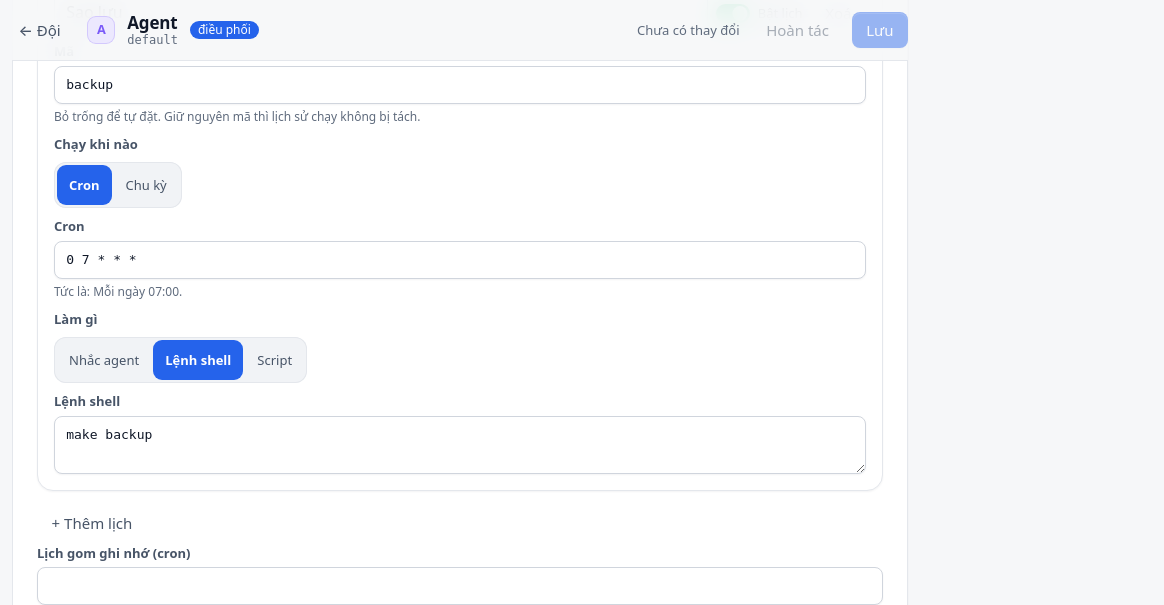
Test case: switching what a schedule does › leaves nothing to save once a command is switched round and back
(page scrolled)
Click the button "Nhắc agent": (104, 360) [57, 340, 151, 380]
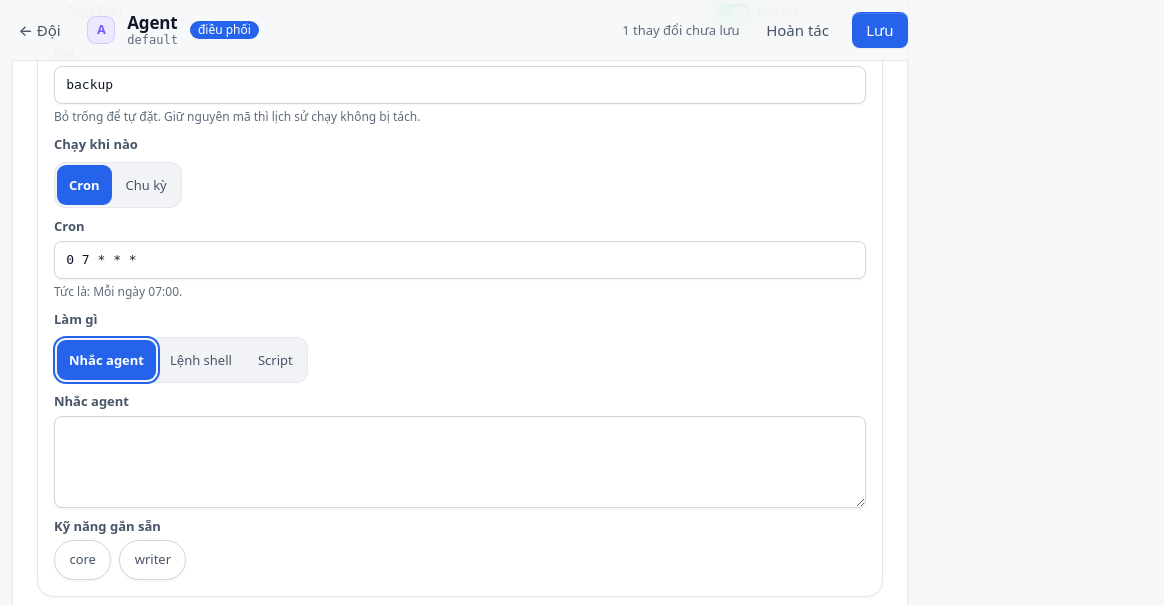
Click the button "Lệnh shell": (201, 360) [158, 340, 244, 380]
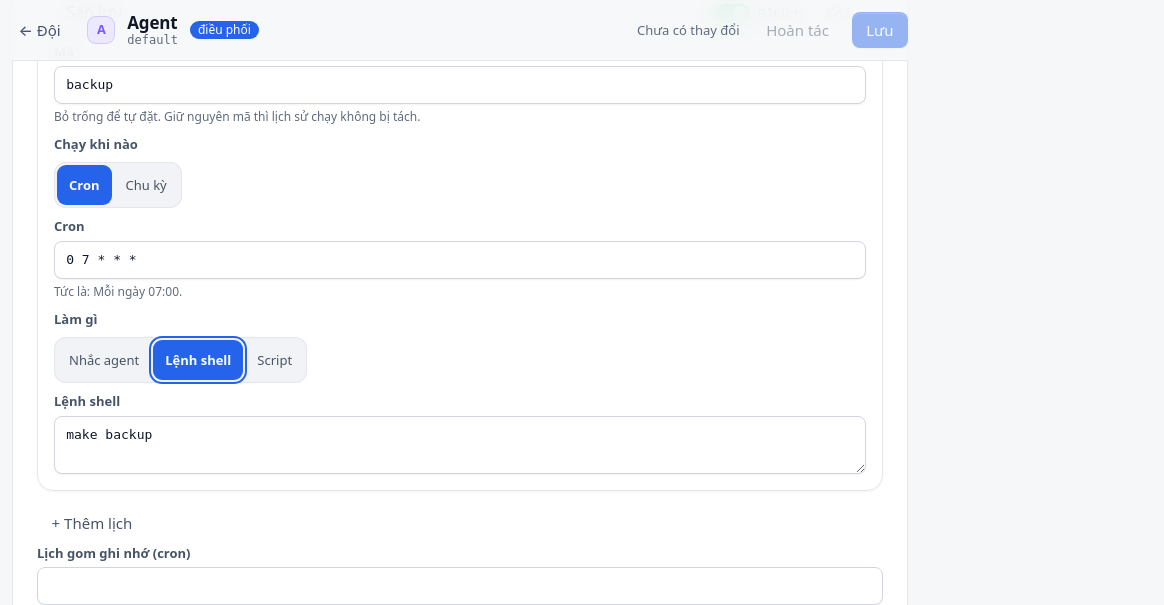
Click the button "Script": (275, 360) [245, 340, 304, 380]
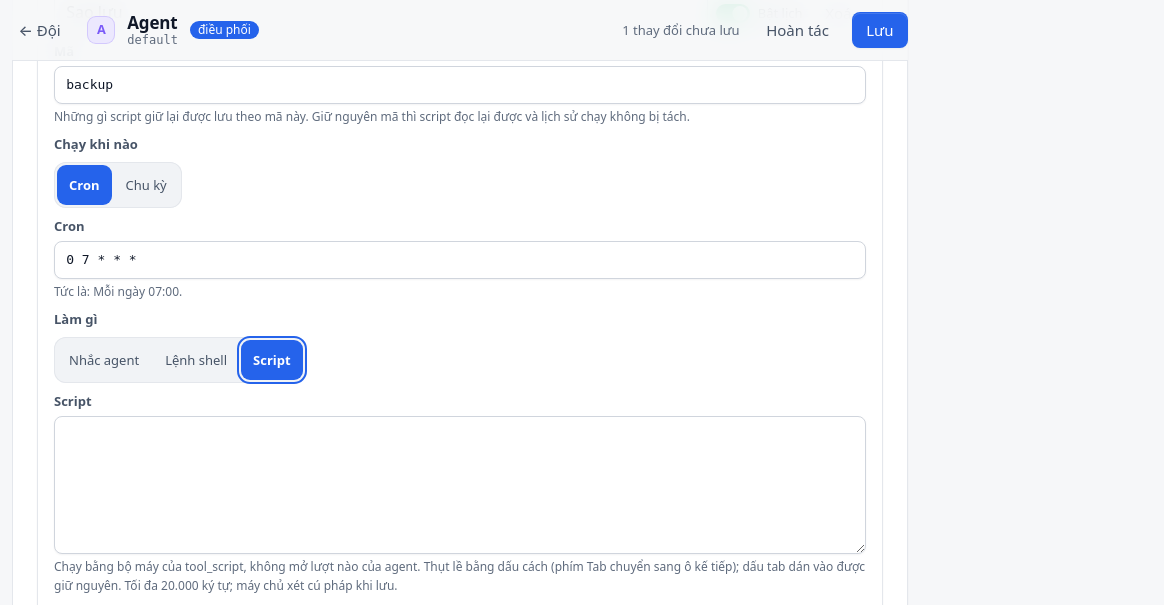
Click the button "Nhắc agent": (104, 360) [57, 340, 151, 380]
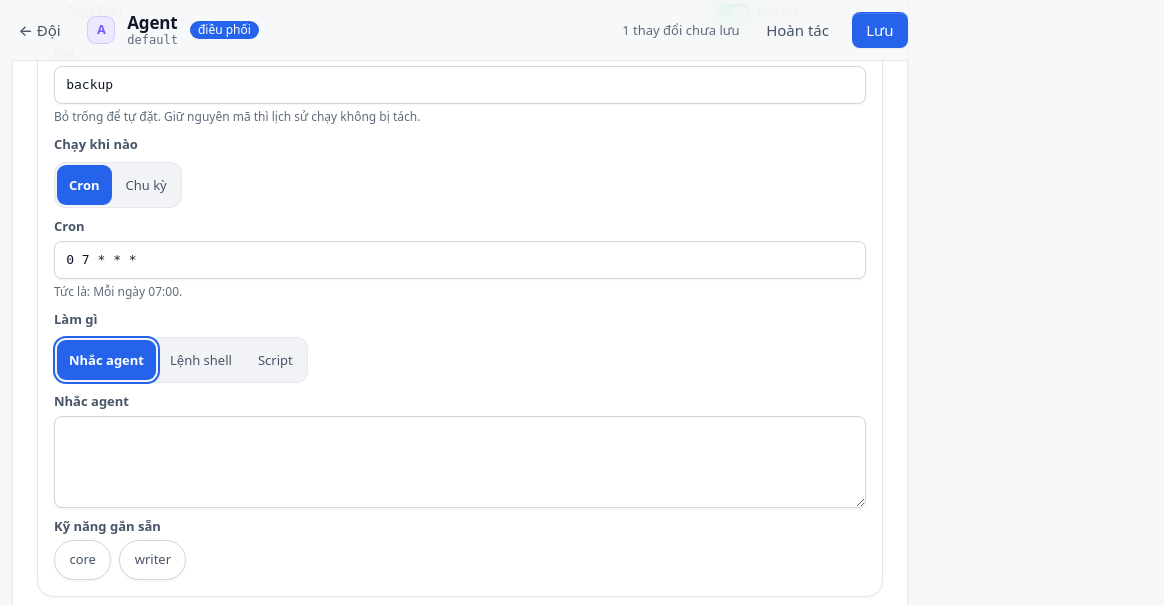
Click the button "Lệnh shell": (201, 360) [158, 340, 244, 380]
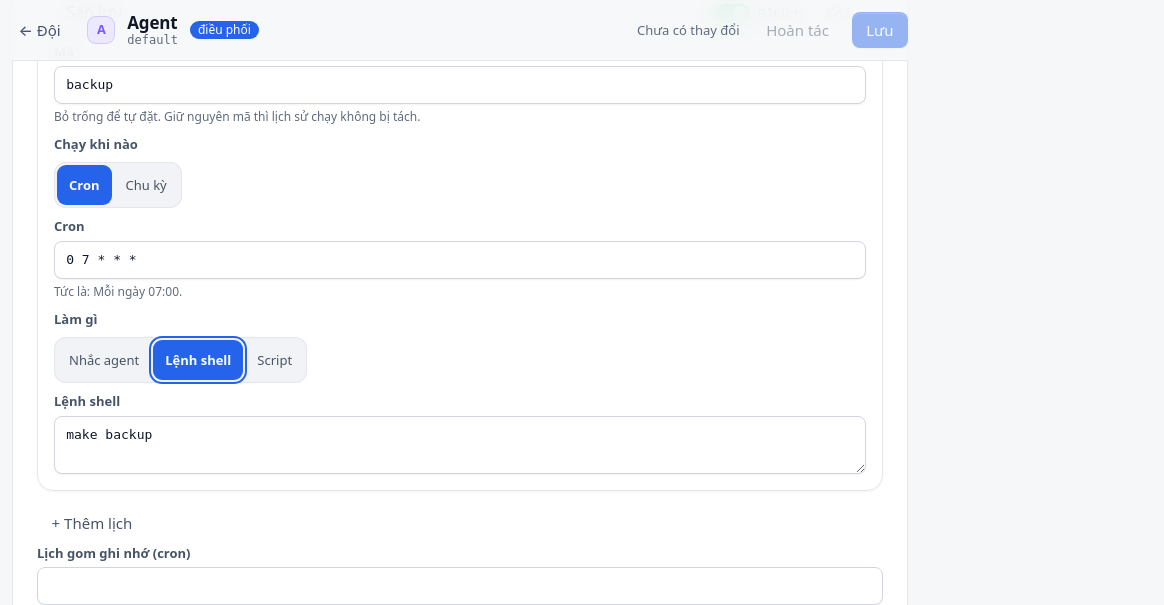
Expected: the text "Chưa có thay đổi" is shown, [637, 20, 740, 40]
Expected: the button "Lưu" is disabled, [852, 12, 908, 48]
